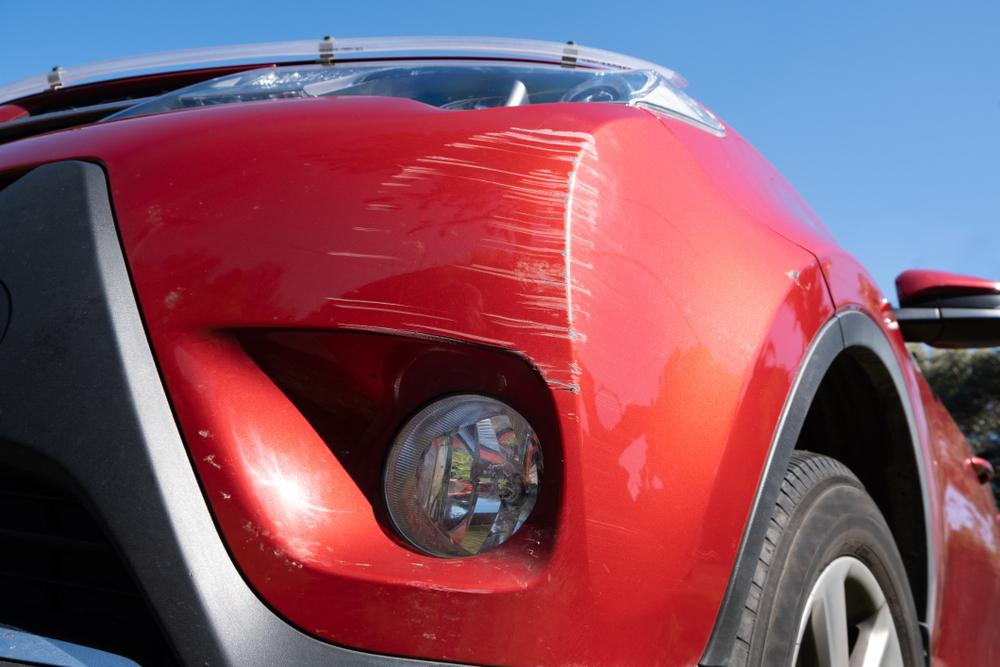scratch: (316, 124, 607, 398)
